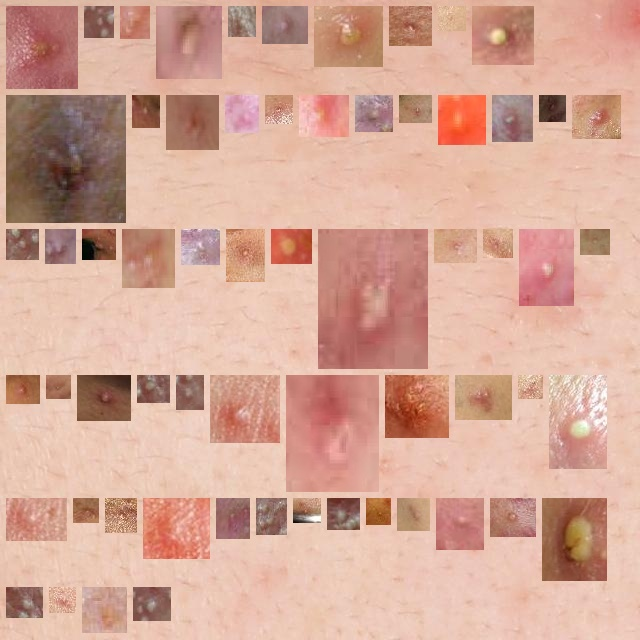pustule: (326, 237, 420, 361), (14, 103, 118, 215), (294, 383, 371, 484), (14, 14, 70, 81), (550, 506, 599, 573), (557, 383, 599, 461), (210, 383, 272, 435), (164, 14, 214, 71), (322, 14, 375, 59), (527, 237, 566, 298), (151, 506, 202, 551), (393, 383, 441, 430), (480, 14, 526, 57), (130, 237, 167, 280), (174, 103, 211, 142), (14, 506, 59, 533), (463, 383, 504, 412), (444, 506, 476, 542), (85, 383, 123, 413), (446, 103, 478, 137), (580, 103, 613, 131), (307, 103, 341, 129), (90, 595, 119, 625), (234, 237, 257, 274), (500, 103, 525, 134), (498, 506, 528, 529), (270, 14, 300, 36), (397, 14, 424, 38), (442, 237, 469, 255), (279, 237, 304, 256), (363, 103, 385, 124), (189, 237, 212, 257), (224, 506, 242, 531), (233, 103, 251, 125), (141, 595, 163, 613), (264, 506, 279, 527), (14, 595, 35, 610), (113, 506, 129, 525), (405, 506, 422, 523), (53, 237, 68, 256), (335, 506, 352, 522), (90, 237, 108, 252), (14, 237, 31, 252), (128, 14, 142, 31), (14, 383, 32, 396), (184, 383, 196, 402), (92, 14, 106, 30), (140, 103, 152, 120), (407, 103, 424, 115), (145, 383, 162, 395), (491, 237, 505, 250), (236, 14, 248, 29), (273, 103, 285, 116), (588, 237, 602, 247), (547, 103, 558, 114), (57, 595, 68, 605), (446, 14, 458, 23), (301, 506, 313, 515), (374, 506, 383, 517), (81, 506, 91, 515), (54, 383, 63, 391), (526, 383, 535, 391)
